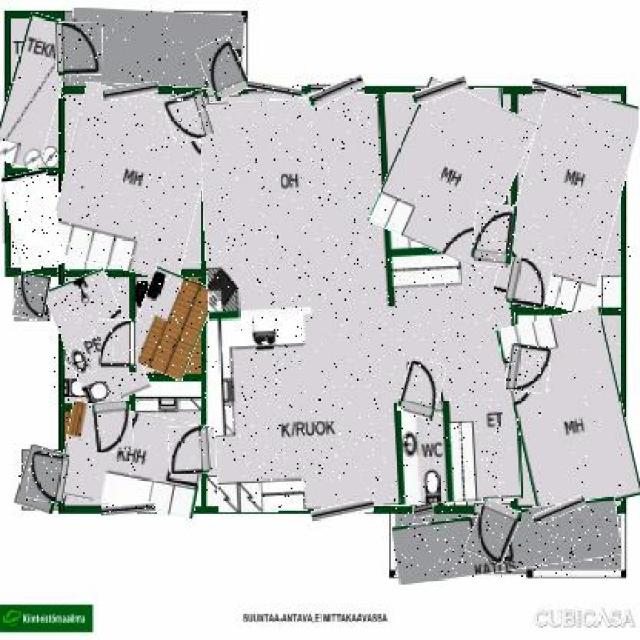door: (19, 448, 66, 512), (469, 502, 518, 563), (200, 37, 246, 98), (472, 203, 516, 266), (400, 360, 443, 418), (57, 23, 103, 75), (166, 91, 212, 143), (506, 344, 551, 394), (98, 318, 138, 372), (508, 260, 550, 309), (168, 426, 210, 474), (94, 400, 132, 452), (28, 456, 68, 502), (16, 272, 50, 320)
window: (308, 80, 364, 105), (414, 80, 469, 102), (311, 502, 374, 520), (532, 500, 588, 520), (249, 80, 305, 95), (103, 83, 159, 97), (100, 503, 155, 515), (532, 83, 582, 95), (414, 505, 434, 517)
zone: (204, 92, 518, 510), (56, 90, 210, 276), (508, 87, 630, 310), (506, 311, 632, 512), (382, 86, 523, 259), (394, 505, 621, 577), (62, 406, 206, 512), (69, 11, 246, 88), (54, 272, 140, 406), (0, 14, 69, 169), (129, 271, 209, 377), (6, 171, 62, 269)
